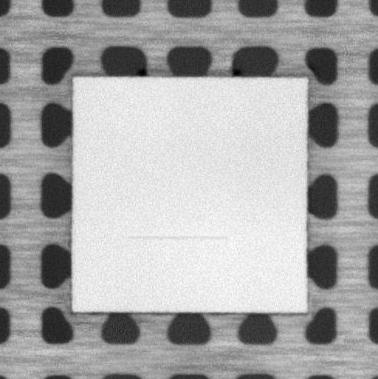DIE_CRACK: (124, 230, 231, 243)
